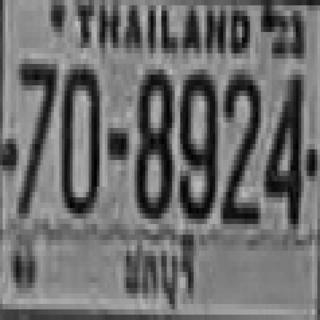N00: (59, 59, 97, 213)
N02: (220, 69, 258, 219)
N04: (263, 69, 301, 224)
N07: (16, 56, 54, 211)
N08: (136, 64, 171, 213)
N09: (177, 67, 215, 216)
P13: (117, 231, 201, 316)
